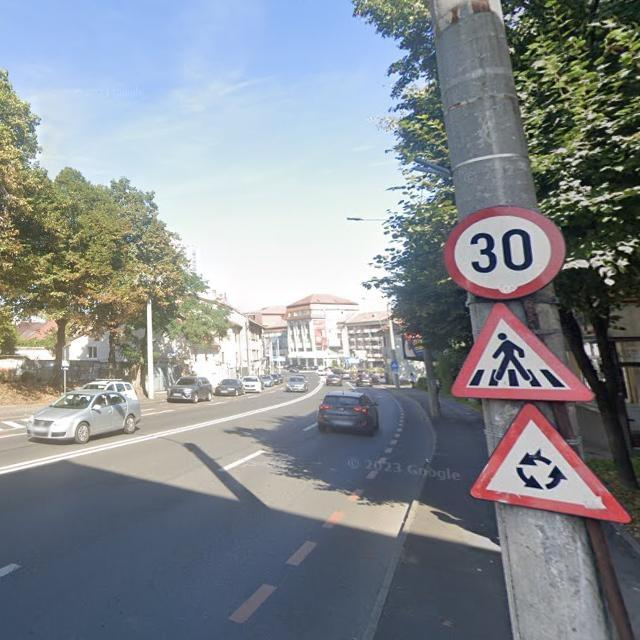forb_speed_over_30: (441, 205, 568, 303)
warn_crosswalk: (449, 301, 597, 401)
